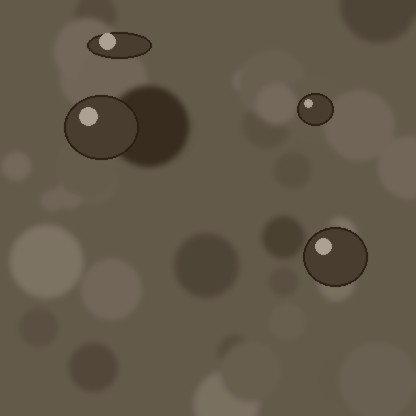gota: (64, 97, 138, 165), (303, 229, 367, 291), (87, 33, 151, 61), (297, 94, 333, 128)
